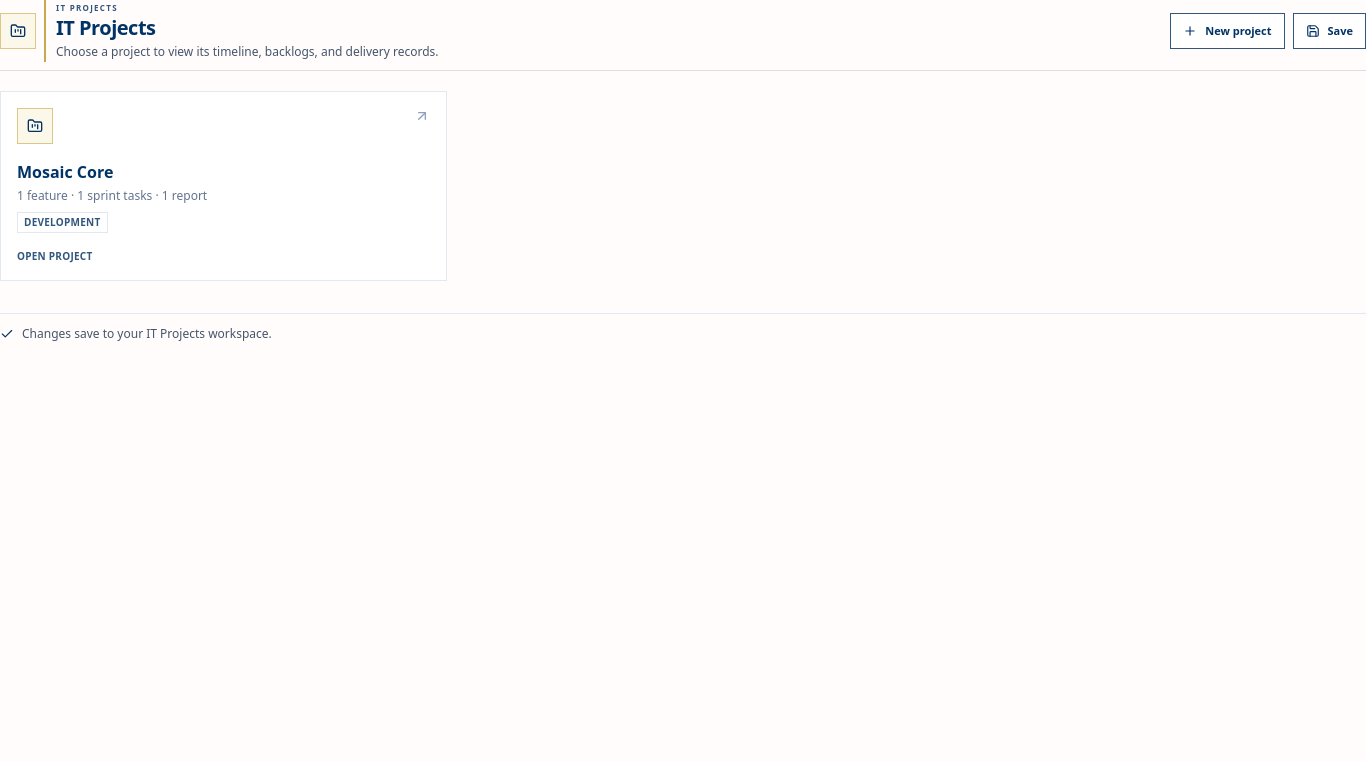
Test: IT Projects workspace › keeps requirement tasks and rich text editable and asks before deleting from RTM
Later steps or results of the test are not shown.
Click the button "Mosaic Core" at (35, 126), box [0,91,447,281]
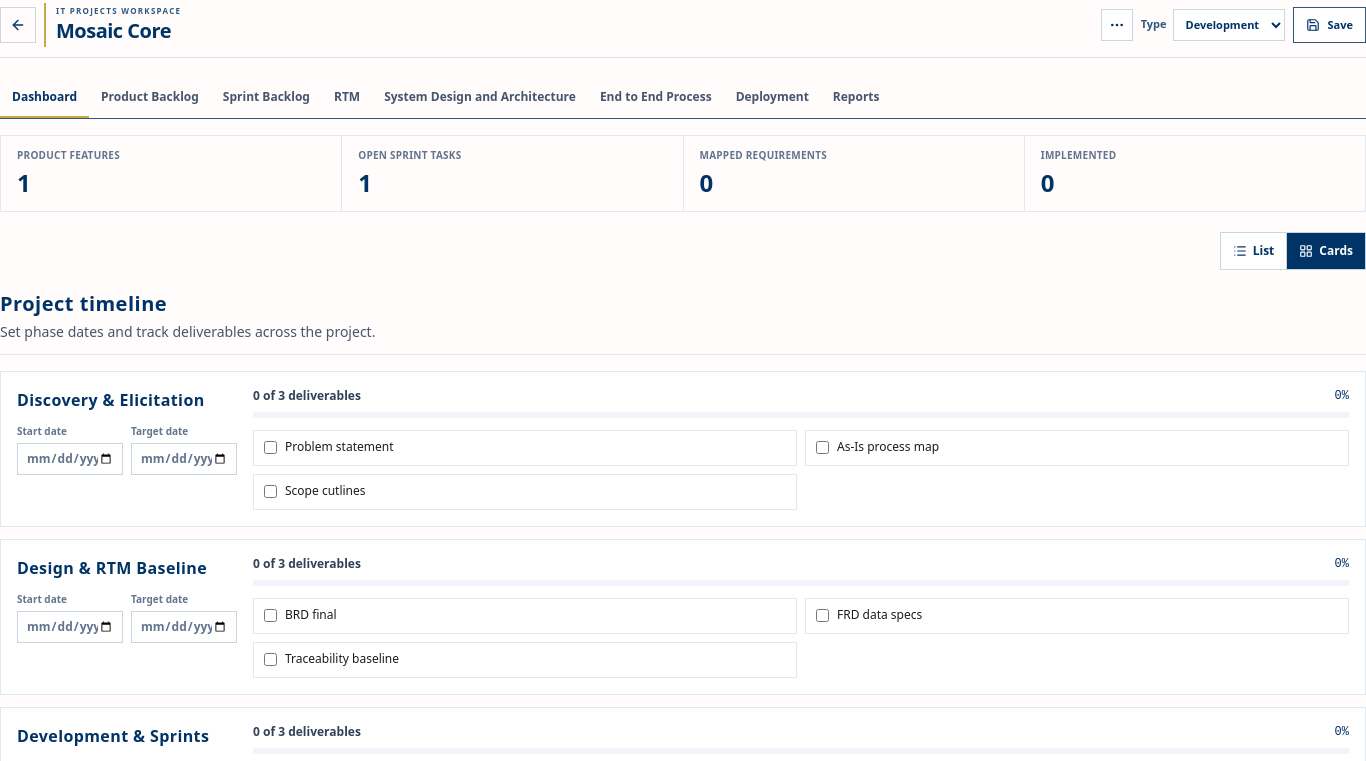
Click the tab "RTM" at (347, 98), box [322,78,372,118]
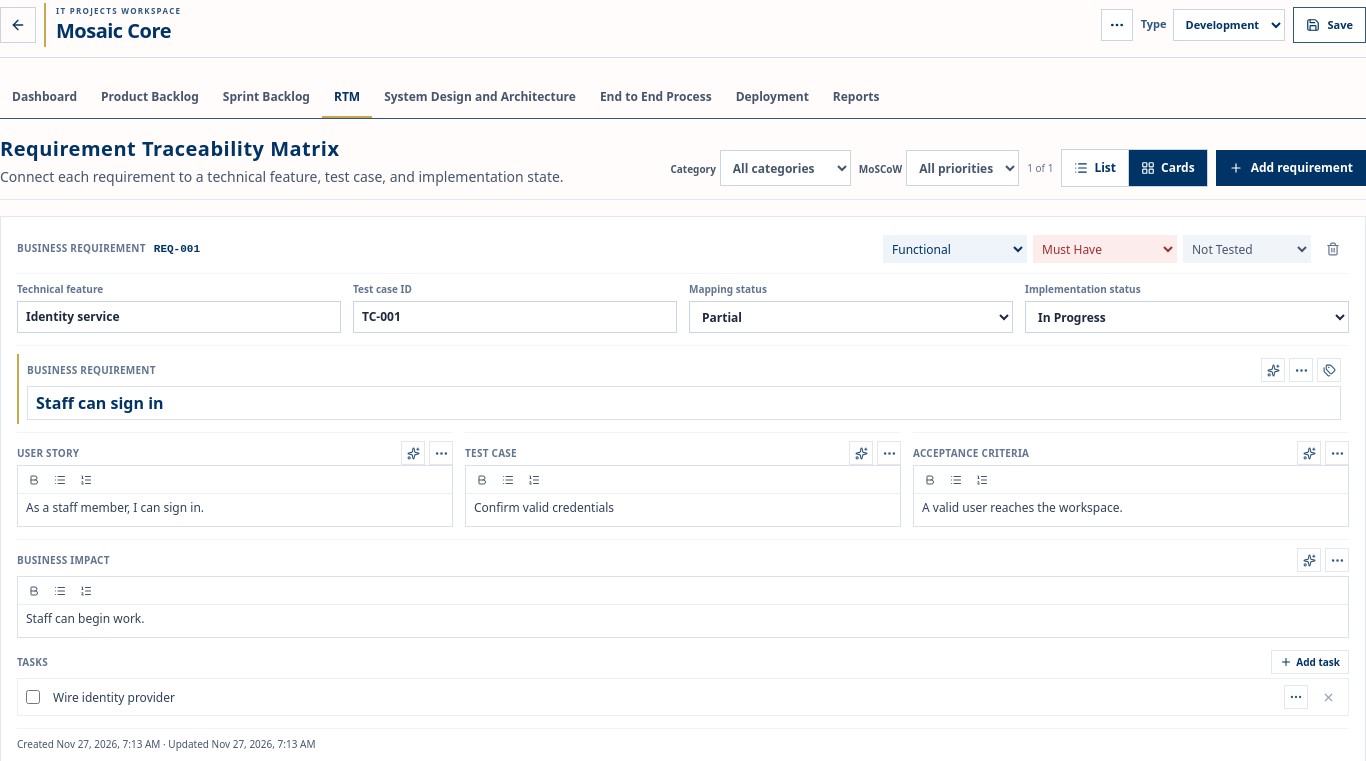
Click the button "Add task" at (1310, 662), box [1271,650,1349,674]
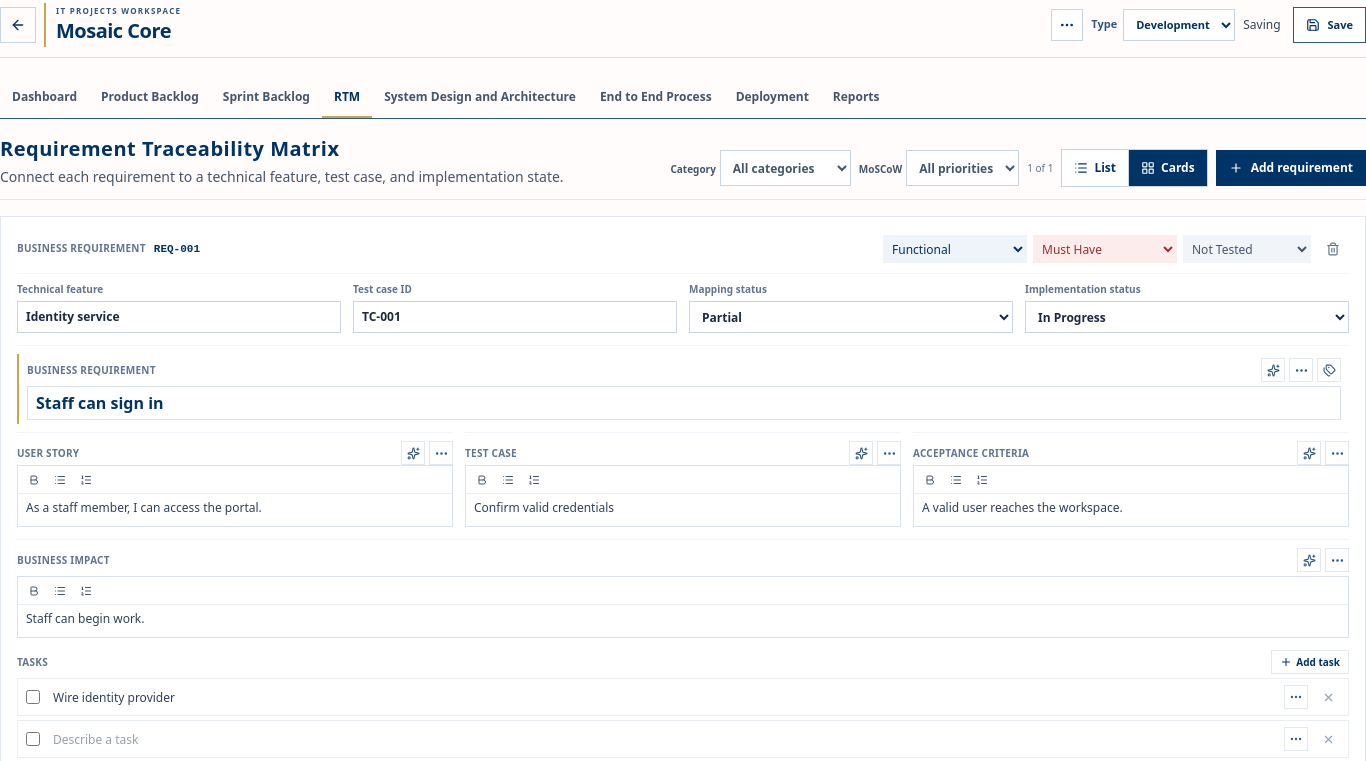
expect the number of fields named "REQ-001 task" is 2: met, box [48,683,1276,711]; [48,725,1276,753]
Clear the field named "REQ-001 user story" at (144, 508), box [26,499,262,516]
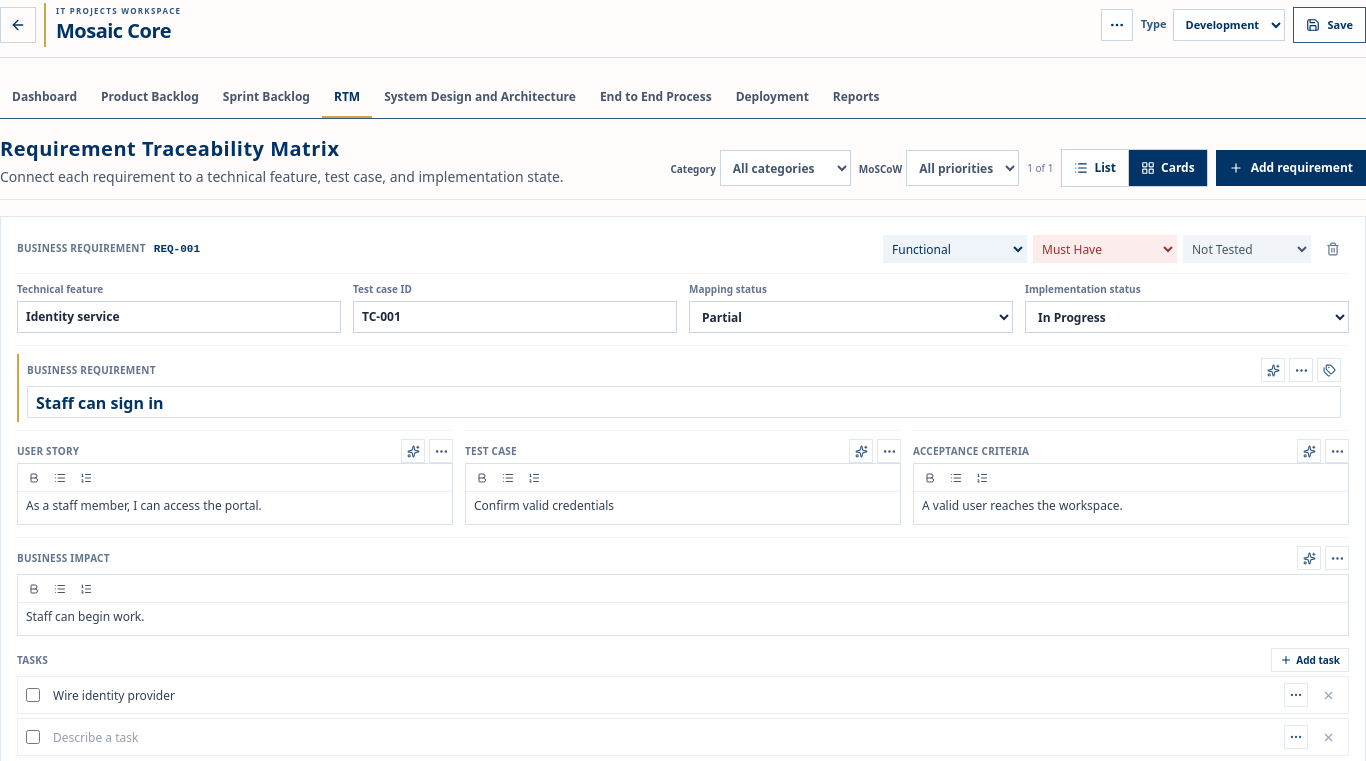
Click the button named "Delete requirement REQ-001" at (1333, 249), box [1317,233,1349,265]
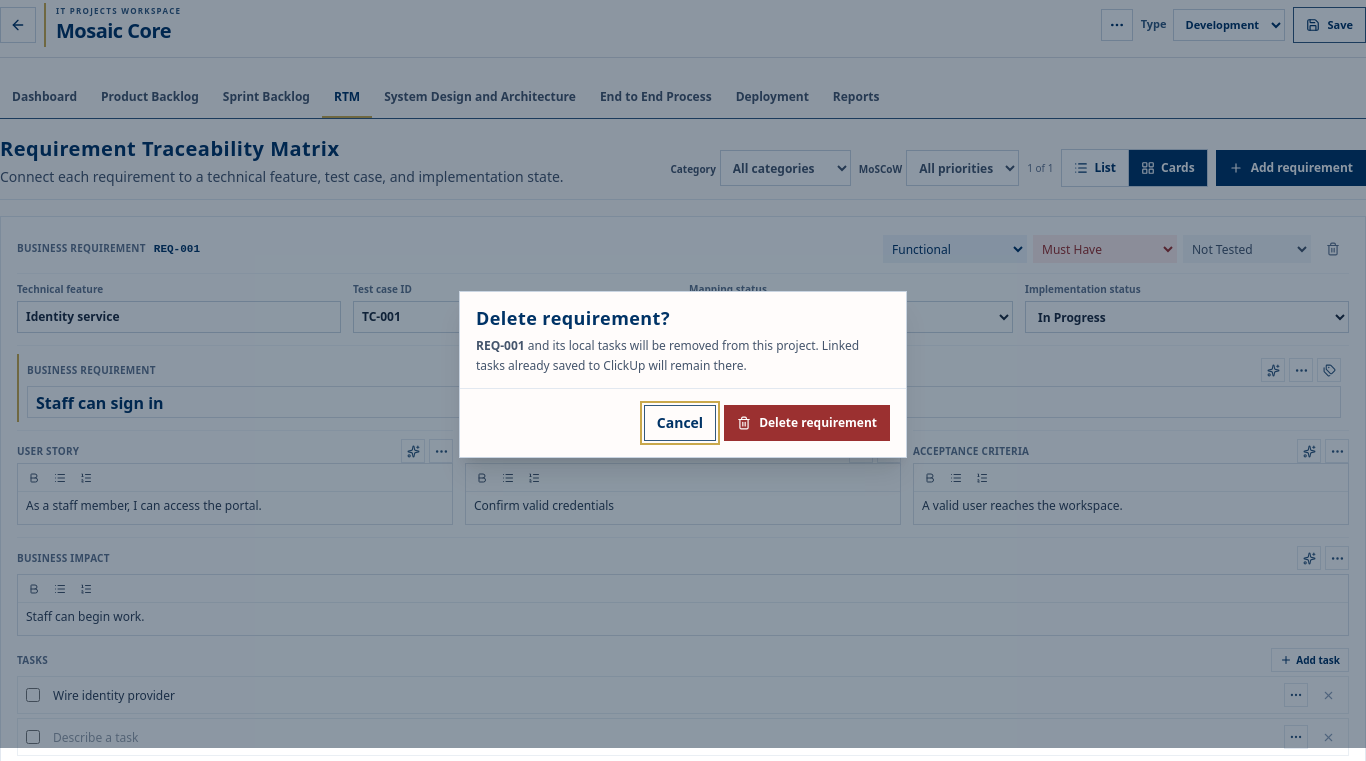
Click the button "Cancel" at (680, 422), box [644,404,716,440]
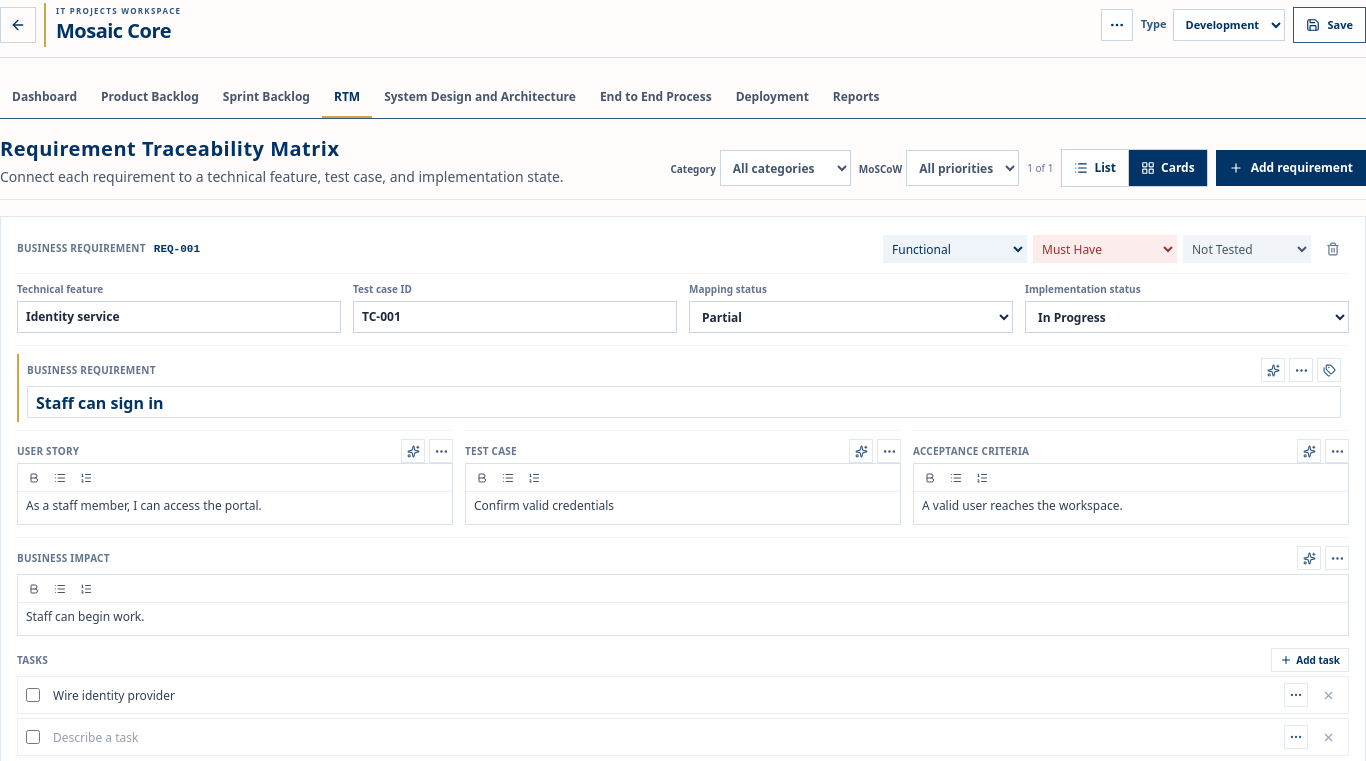
expect the text box named "REQ-001 business requirement" is shown: met, box [27,386,1341,418]
